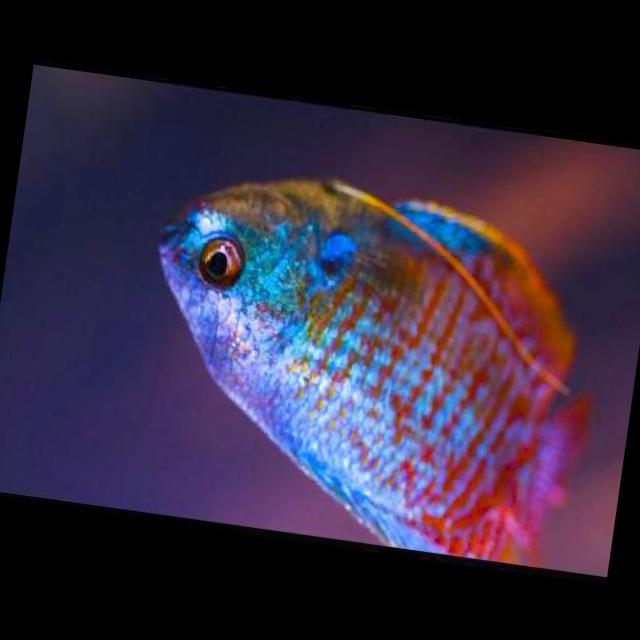Gourami: (120, 153, 614, 572)
